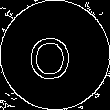O_N: (33, 29, 77, 81)
